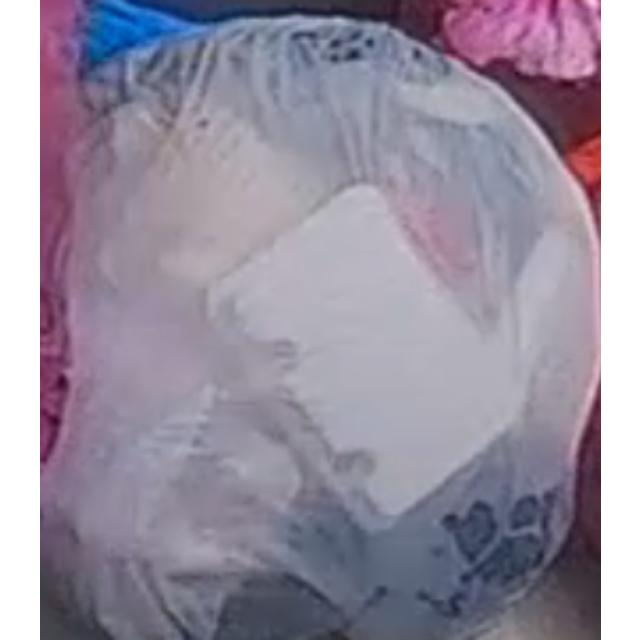other_trashbag: (41, 16, 598, 640)
